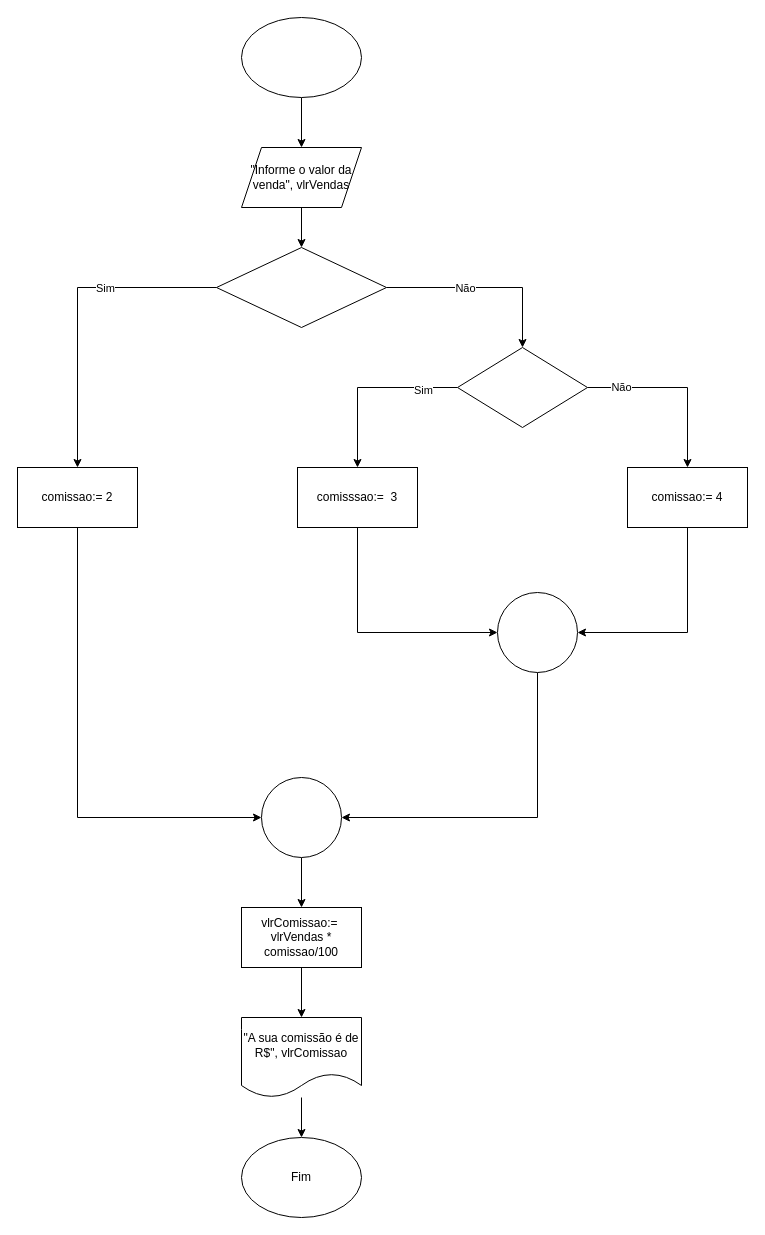
Some shapes in this 765 by 1235 pixel diagram are drawn without their labels. The box of each missing label's shape, as (x1, y1, x2, y2) in pixels:
Inicio: (240, 16, 362, 98)
se vlrVendas < 10000 entao: (216, 246, 386, 328)
se vlrVendas > 10000 e vlrVendas< 20000 entao: (456, 346, 588, 428)
